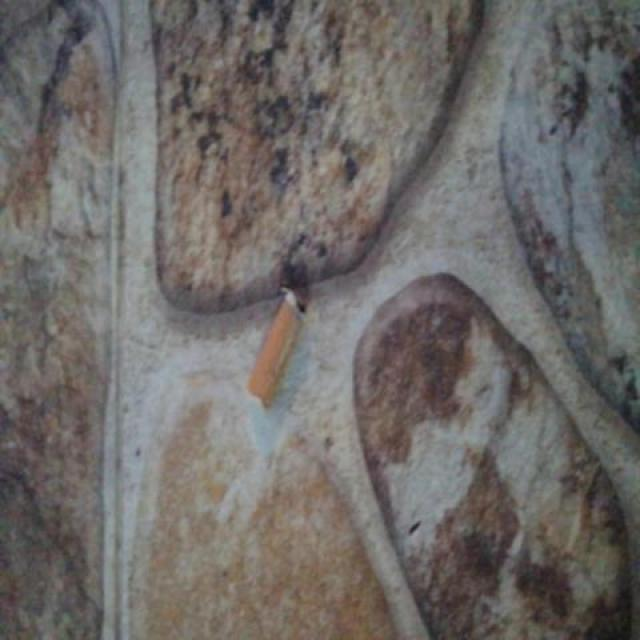non-organic waste: (241, 277, 314, 414)
